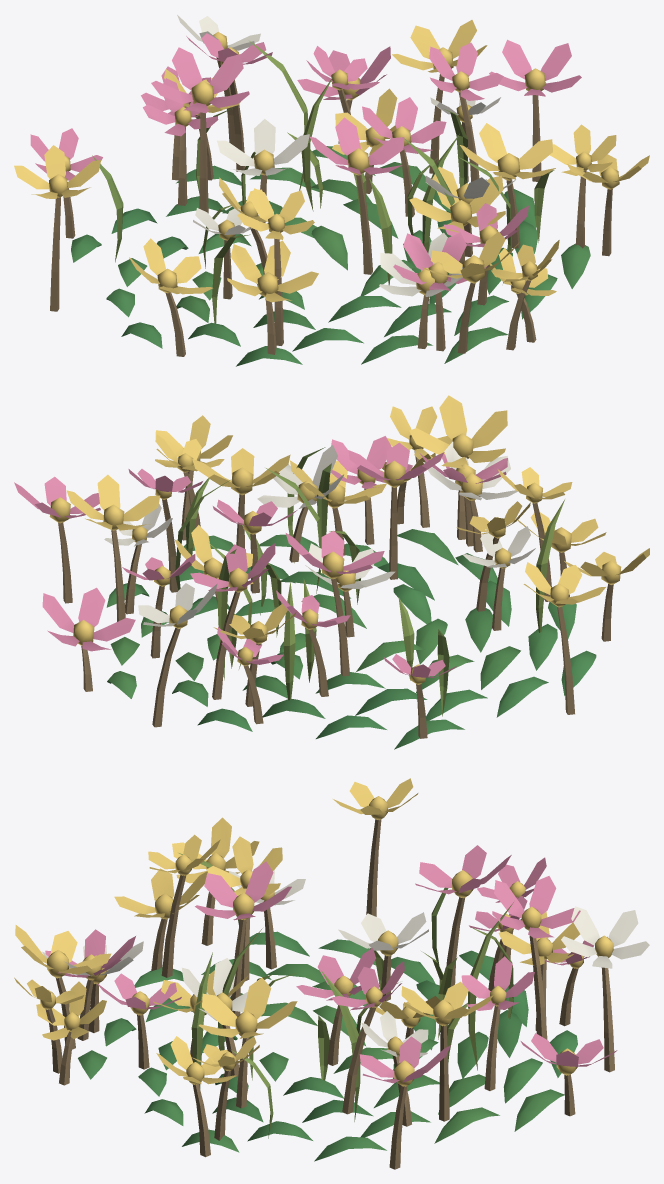
File: flower_patch.2858f07f.glb
The picture shows the model from 3 angles, top to bottom: view 1: azimuth 30°, elevation 25°; view 2: azimuth 150°, elevation 25°; view 3: azimuth 270°, elevation 25°; orthographic projection.
Parts seen in each view (by area): view 1: flower_patch; view 2: flower_patch; view 3: flower_patch.
Part boxes in pixels (x1,y1,x2,y2): flower_patch: (14, 15, 649, 366); flower_patch: (14, 395, 649, 749); flower_patch: (14, 778, 649, 1169).
Size of the model in its own units: 1.6 by 0.4824 by 1.55.
